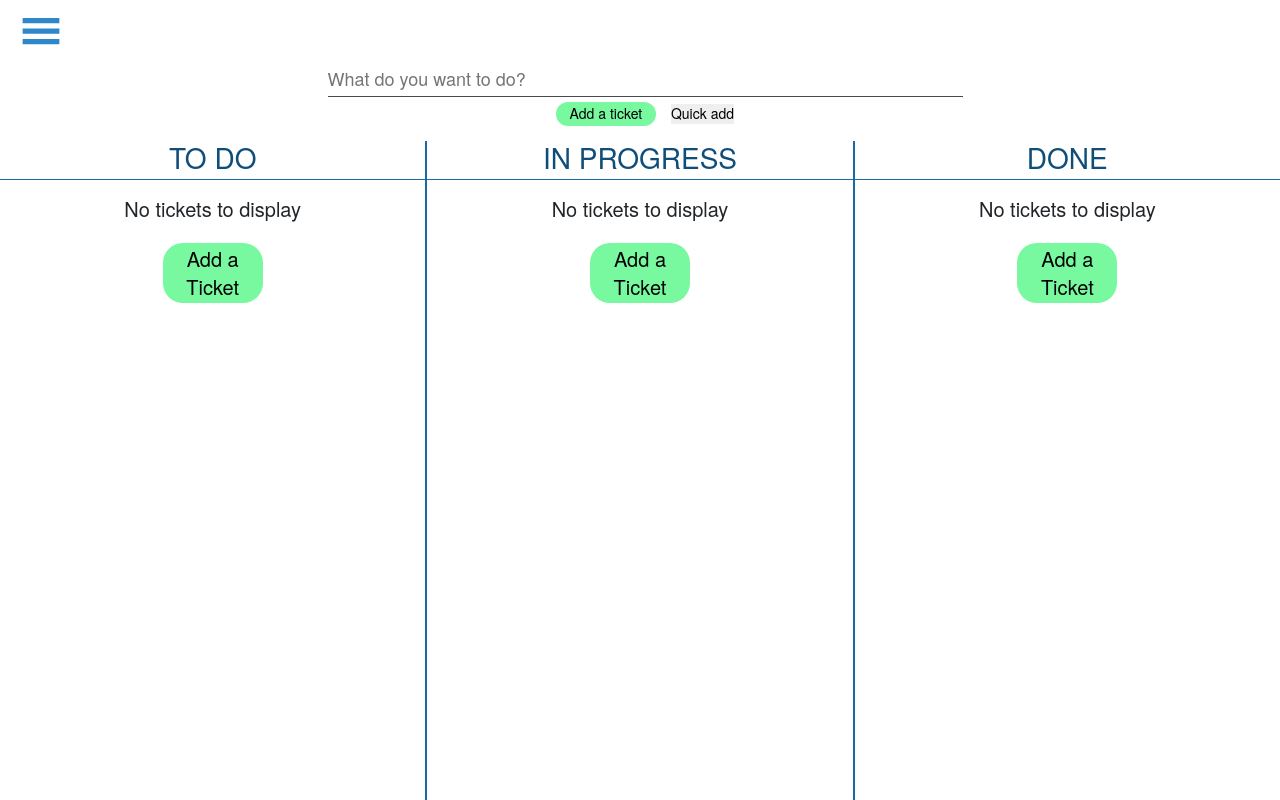
Test: Checks adding ticket functions › user cannot add ticket without a name
Click the button with test id "add-ticket-btn" at x=606, y=114, box [556,102,656,126]
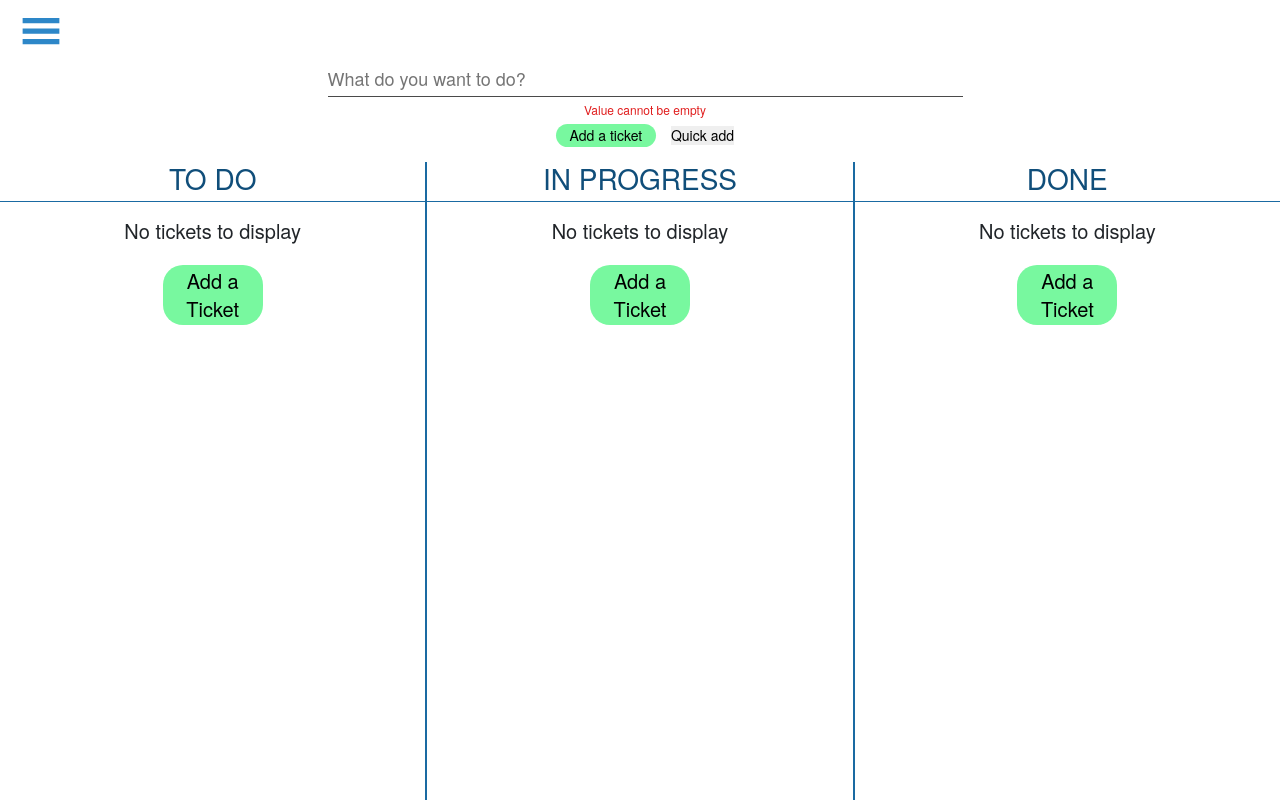
expect the text with test id "title-input-error" reads "Value cannot be empty": met, box [584,101,706,118]
Reload the page
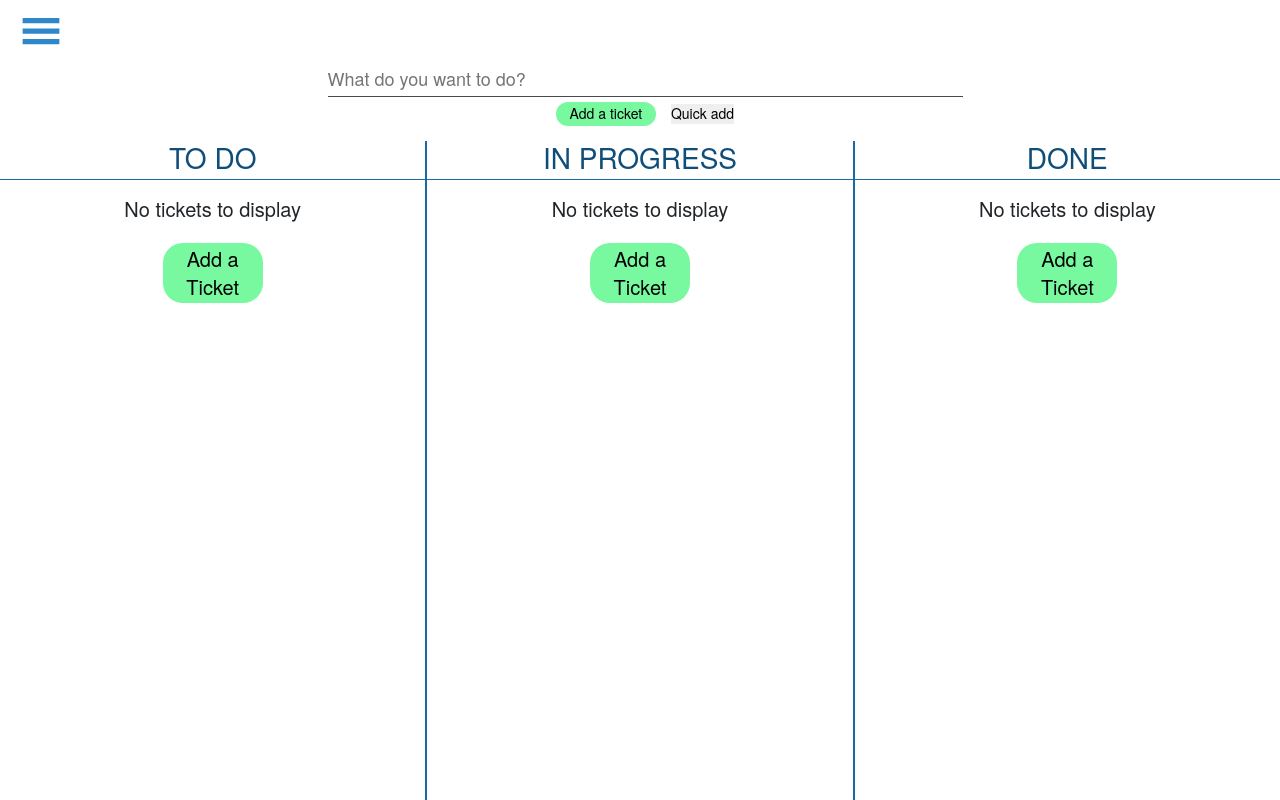
Click the button with test id "quick-add-ticket-btn" at x=703, y=114, box [671,104,734,124]
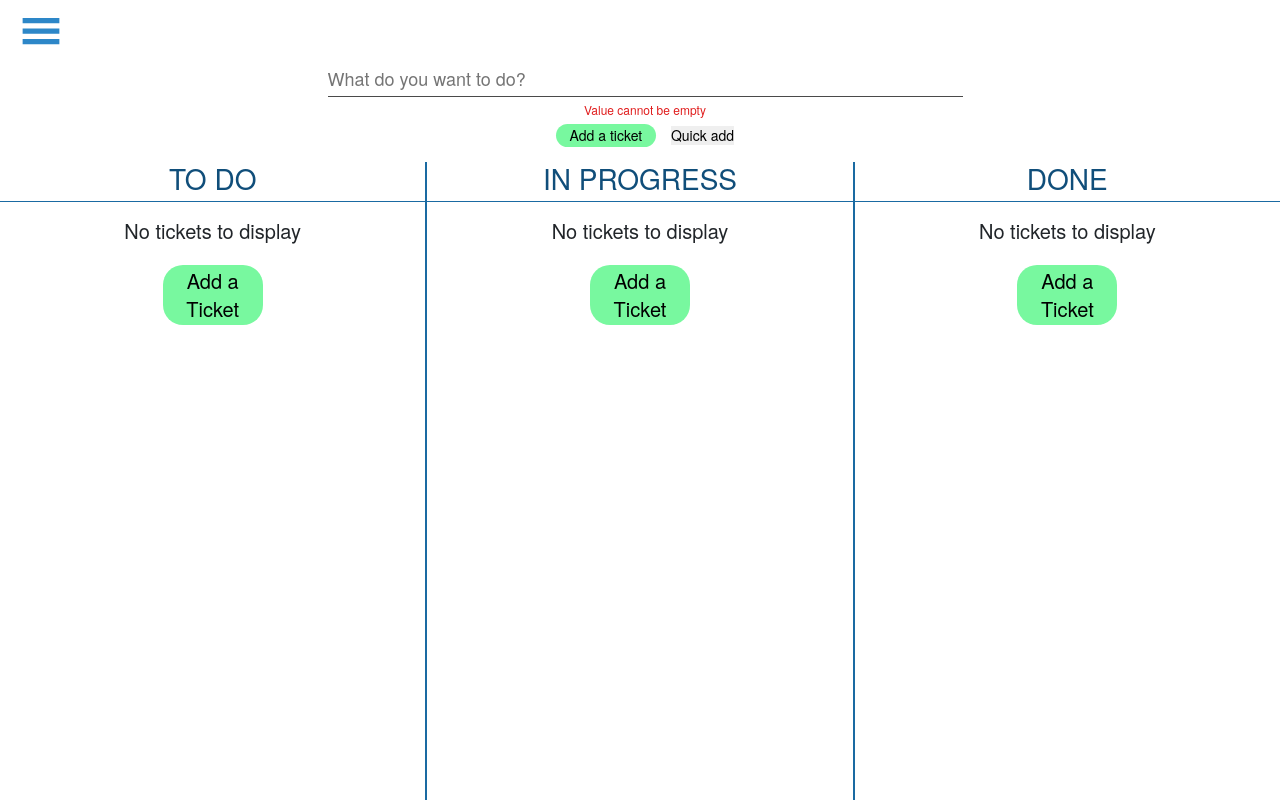
expect the text with test id "title-input-error" reads "Value cannot be empty": met, box [584,101,706,118]
